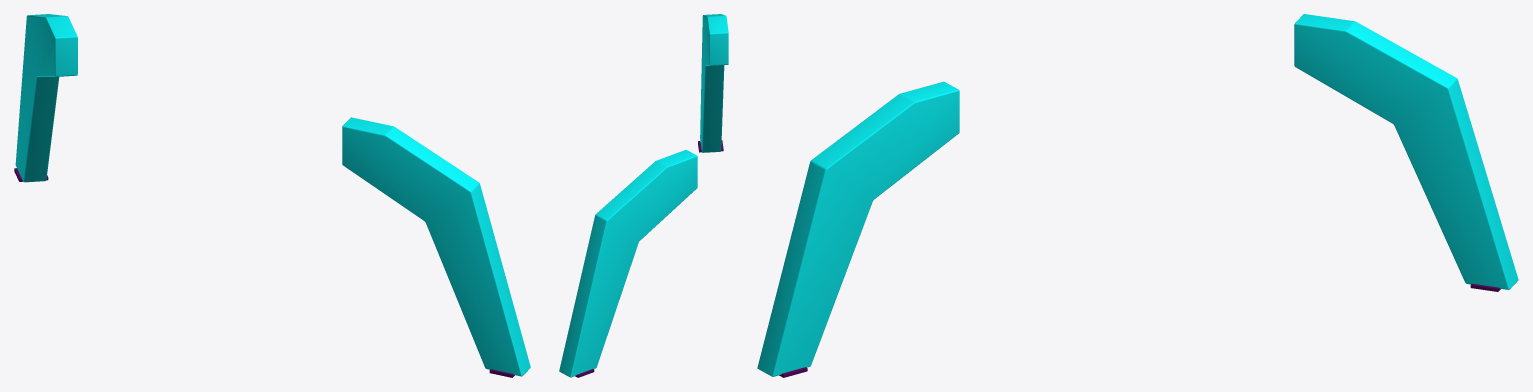
Rendered from levante_leg_corner_left_mirror.gltf.
3 views of the same model, side by side, from view 1: azimuth 30°, elevation 25°; view 2: azimuth 150°, elevation 25°; view 3: azimuth 270°, elevation 25° (orthographic). The views are drawn at different scales.
Visible parts, largest first — view 1: leg_corner_left001; view 2: leg_corner_left001; view 3: leg_corner_left001.
Boxes of the visible parts, x1,y1,x2,y2 form: leg_corner_left001: [14, 14, 530, 377]; leg_corner_left001: [559, 14, 728, 377]; leg_corner_left001: [757, 14, 1518, 377].
Size of the model in its own units: 0.2727 by 0.2361 by 0.6856.
